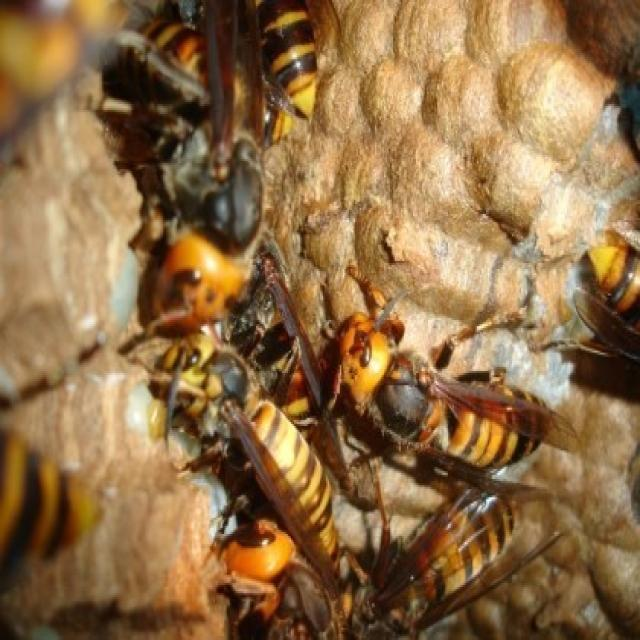Wasp: (323, 269, 555, 472), (133, 19, 269, 335)
